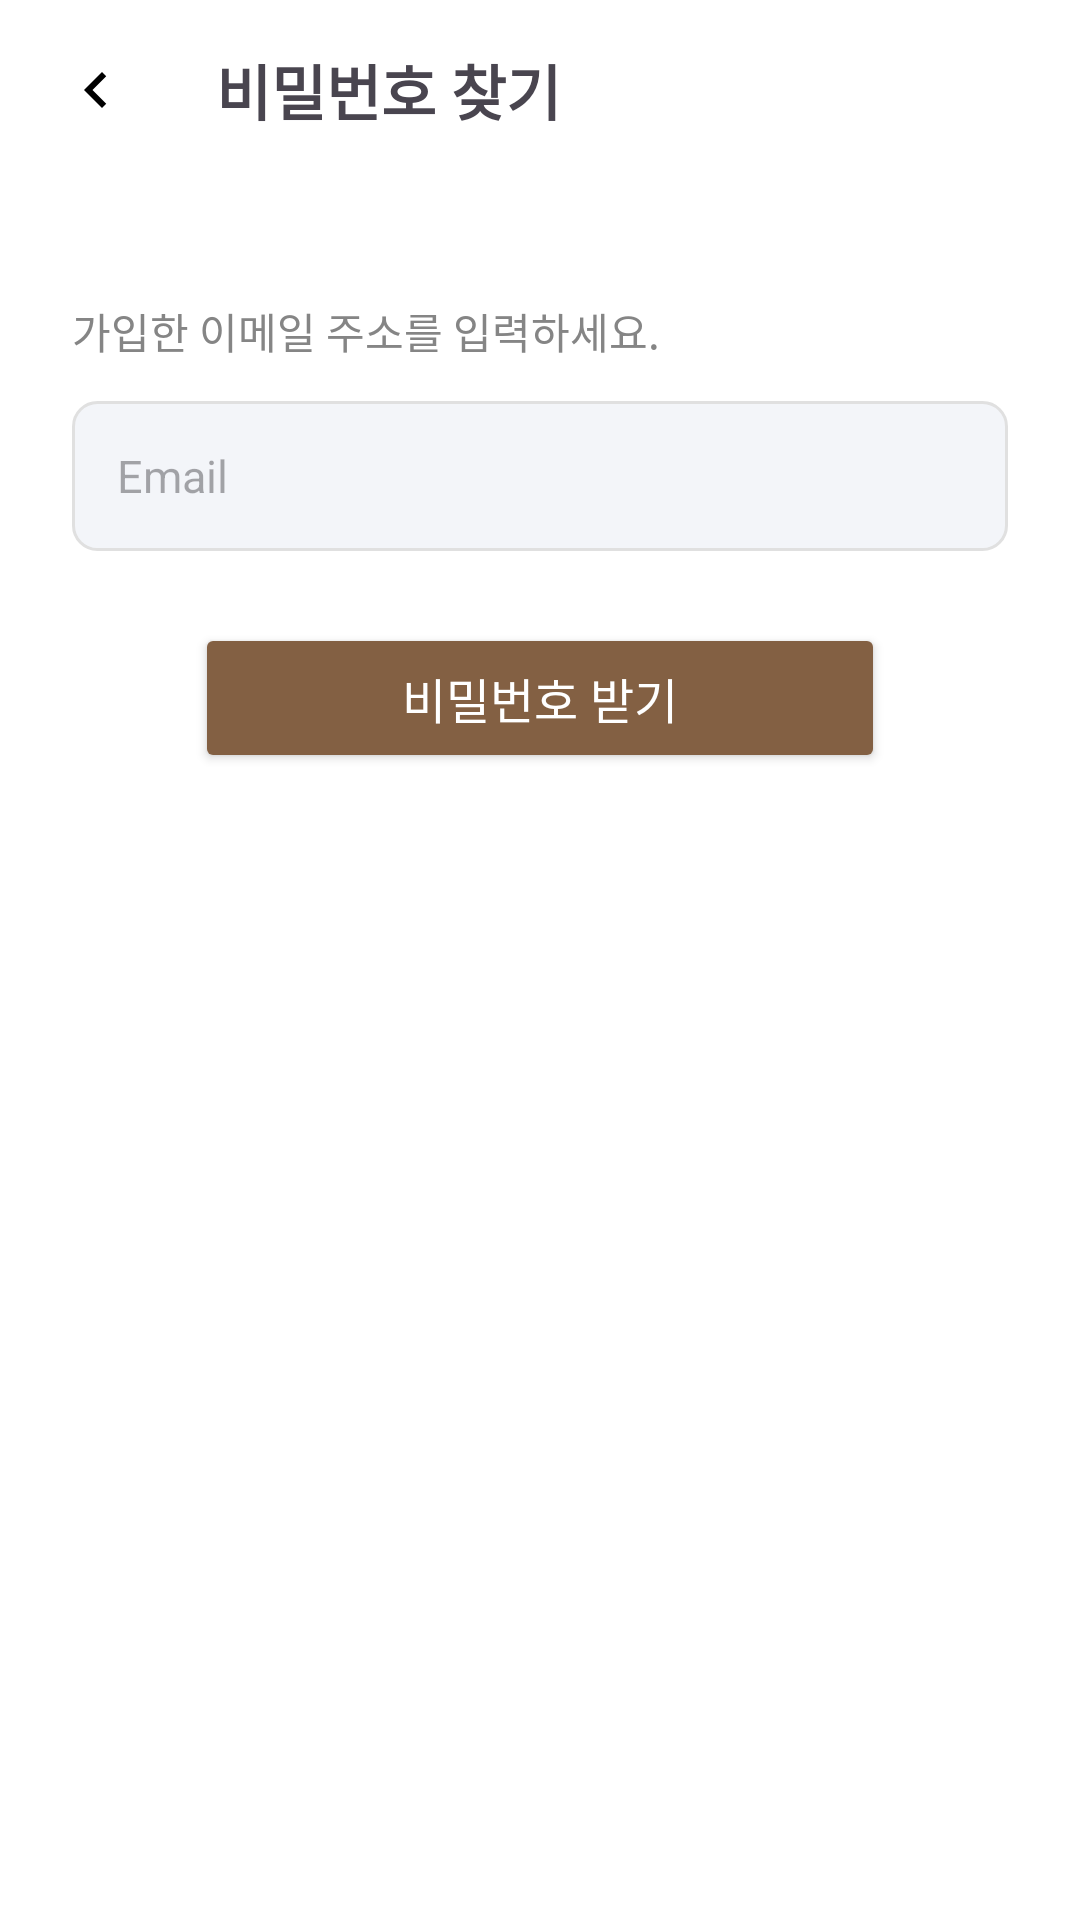

Icons on this 1080w x 1920h Android screen, each with its box as (x1, y1, x2, y2):
back: (84, 72, 106, 108)
